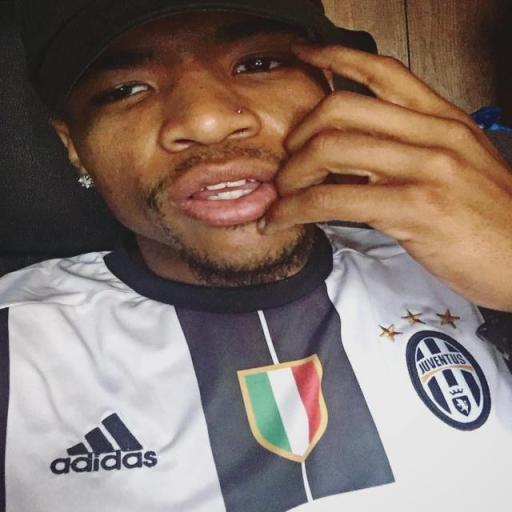Adidas: (48, 409, 162, 475)
